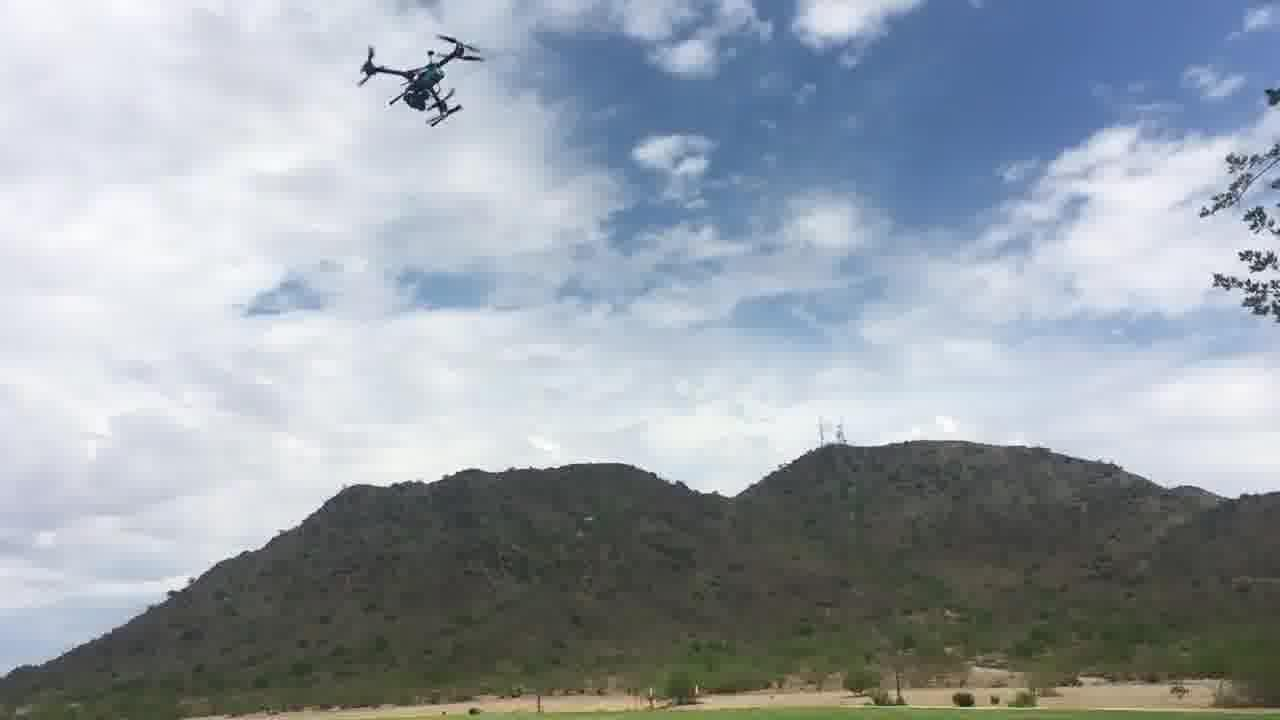drone: (356, 24, 489, 132)
